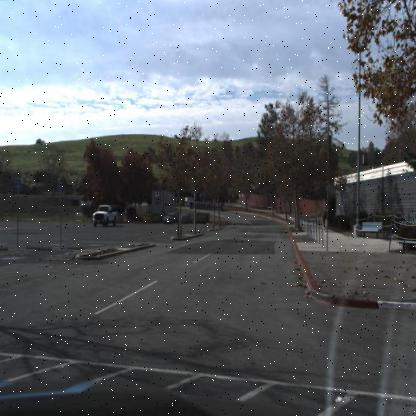car: (88, 202, 119, 229)
